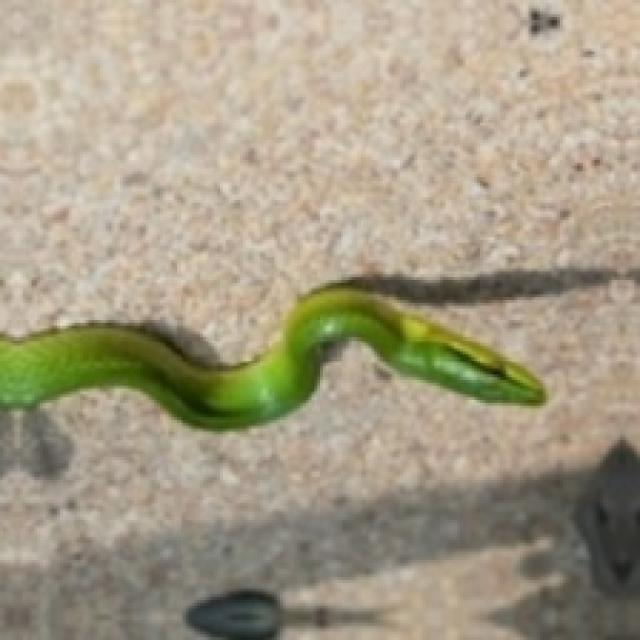red-tailed green ratsnake: (0, 283, 543, 429)
